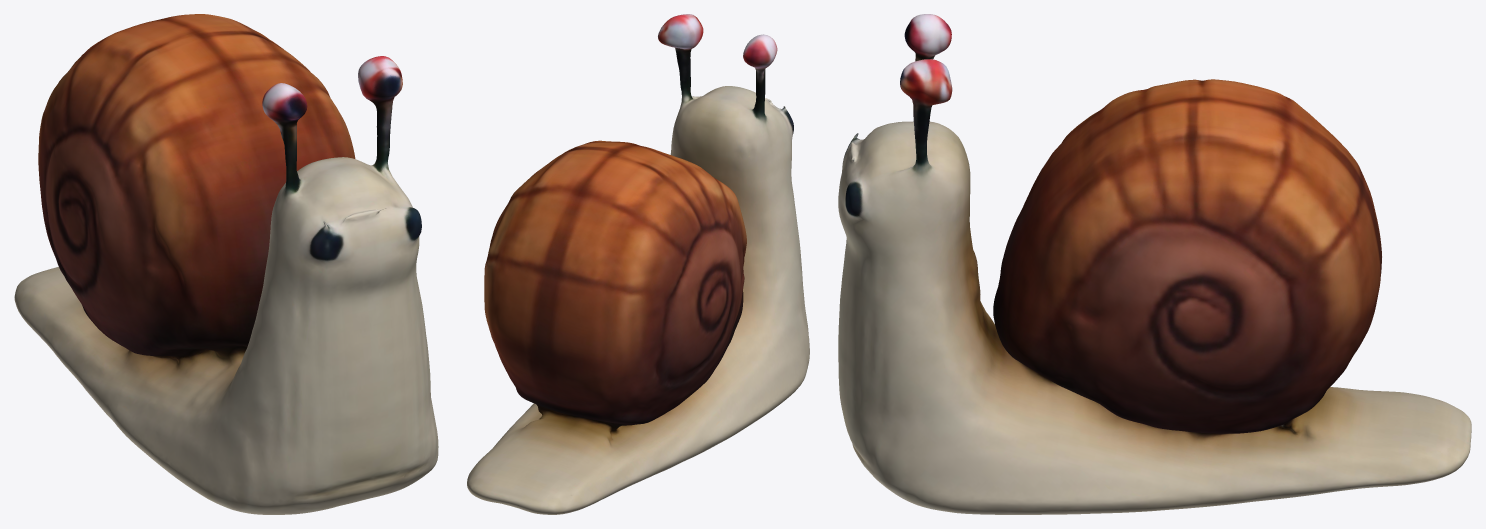
File: snail.glb
3 views of the same model, side by side, from view 1: azimuth 30°, elevation 25°; view 2: azimuth 150°, elevation 25°; view 3: azimuth 270°, elevation 25° (orthographic). The views are drawn at different scales.
Visible parts, largest first — view 1: world_0; view 2: world_0; view 3: world_0.
Part boxes in pixels (bbox=[...]): world_0: bbox=[14, 14, 438, 514]; world_0: bbox=[467, 14, 809, 514]; world_0: bbox=[838, 14, 1471, 514].
Size of the model in its own units: 0.2374 by 0.3808 by 0.5053.
Materials: 1 (1 with a texture image).
